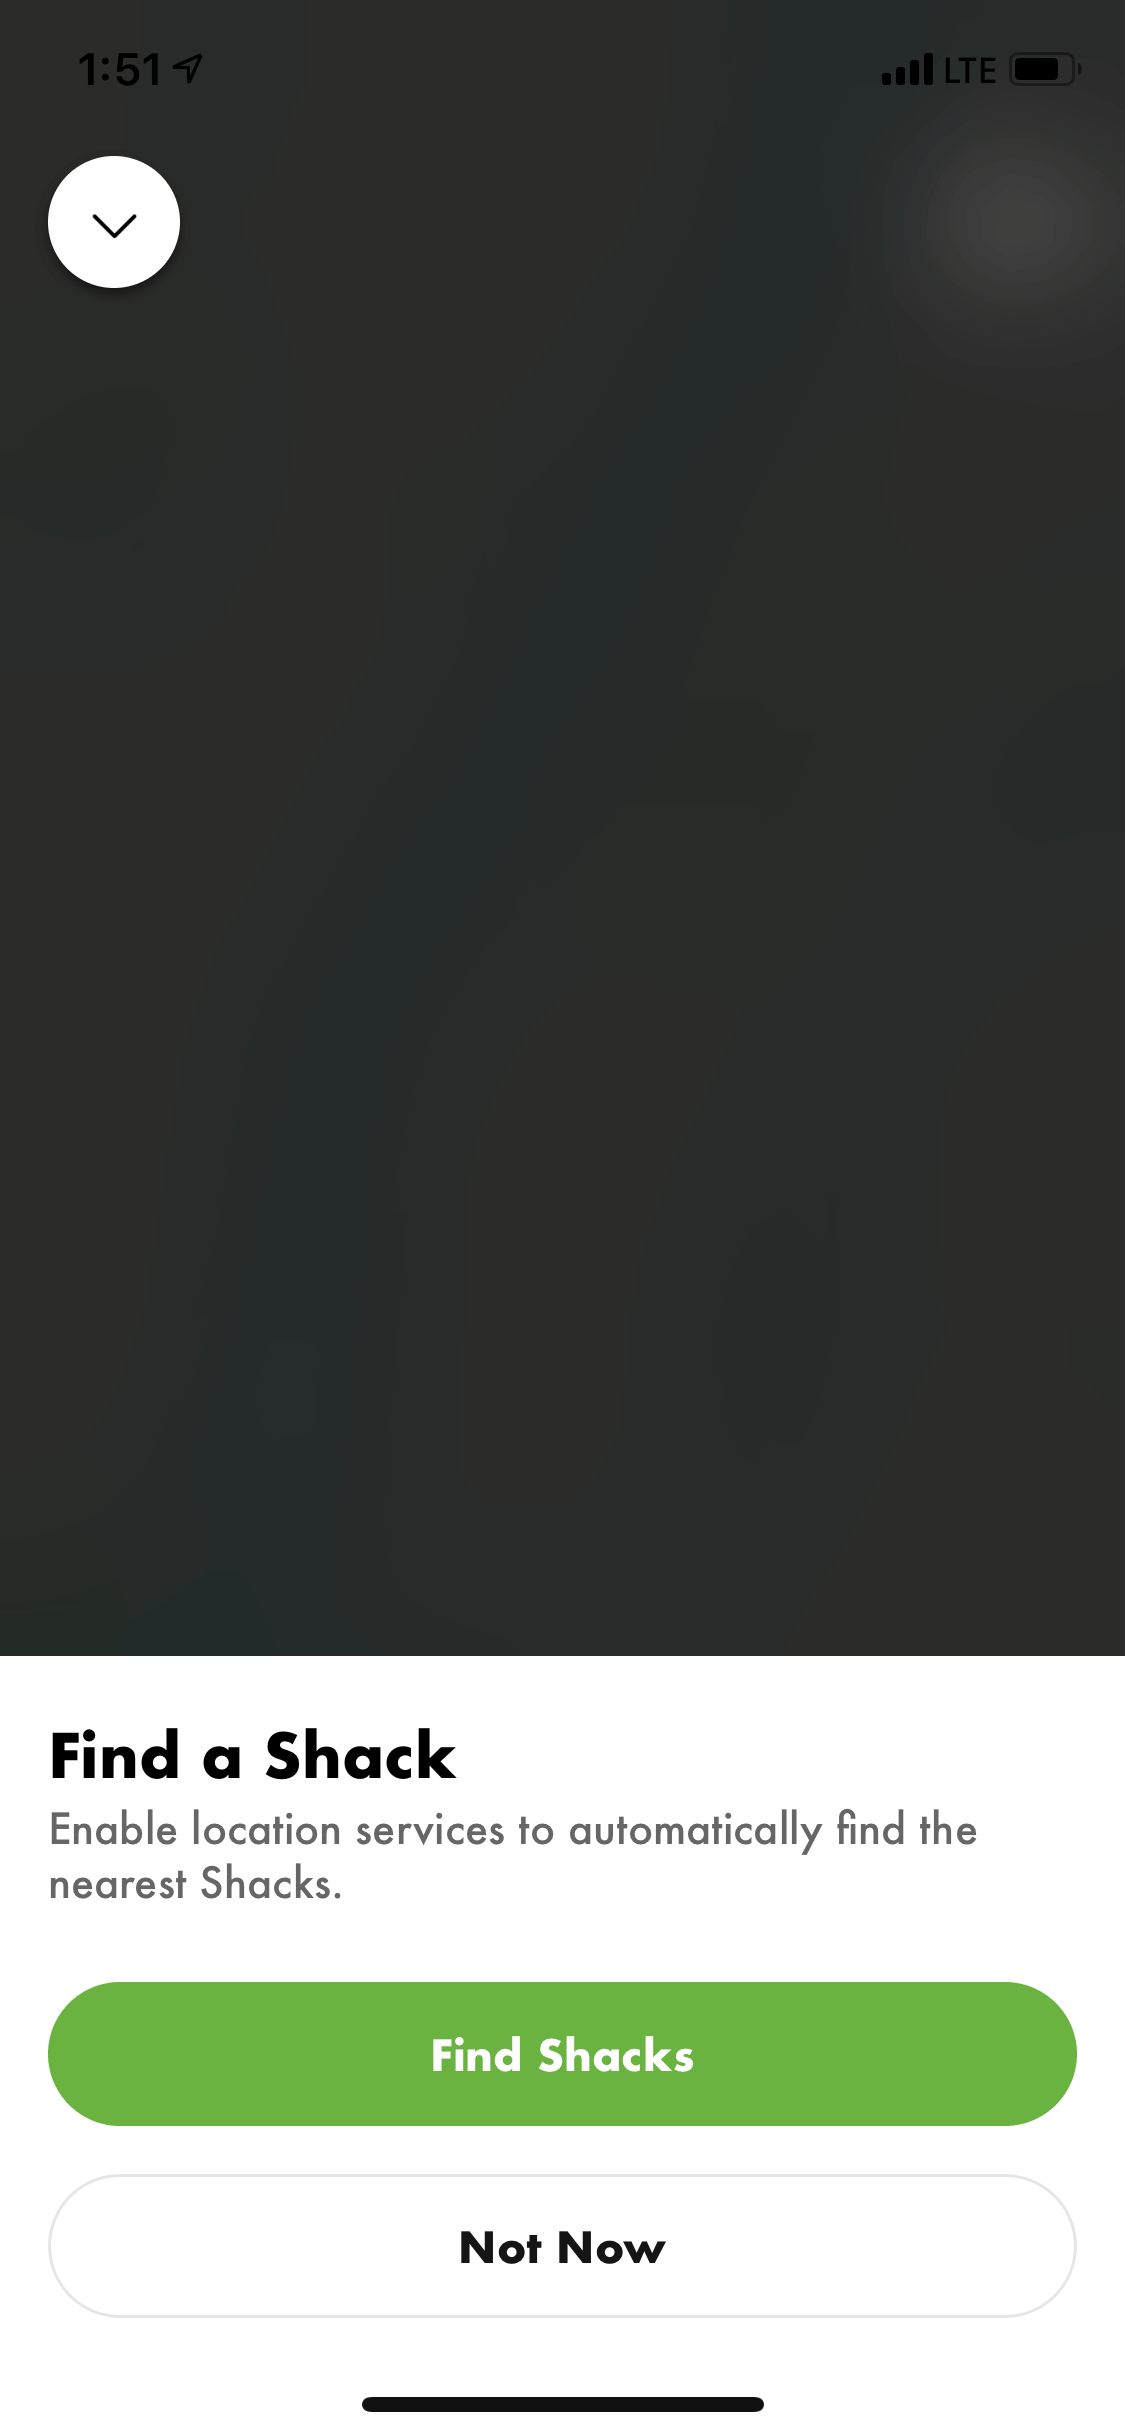Buttons: (37, 1964, 1091, 2142), (40, 2164, 1081, 2330), (31, 138, 193, 294)
